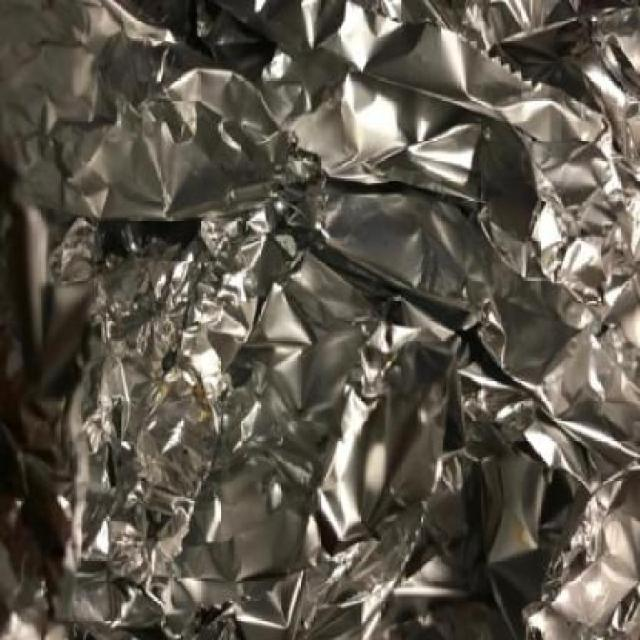METAL: (1, 1, 638, 638)
